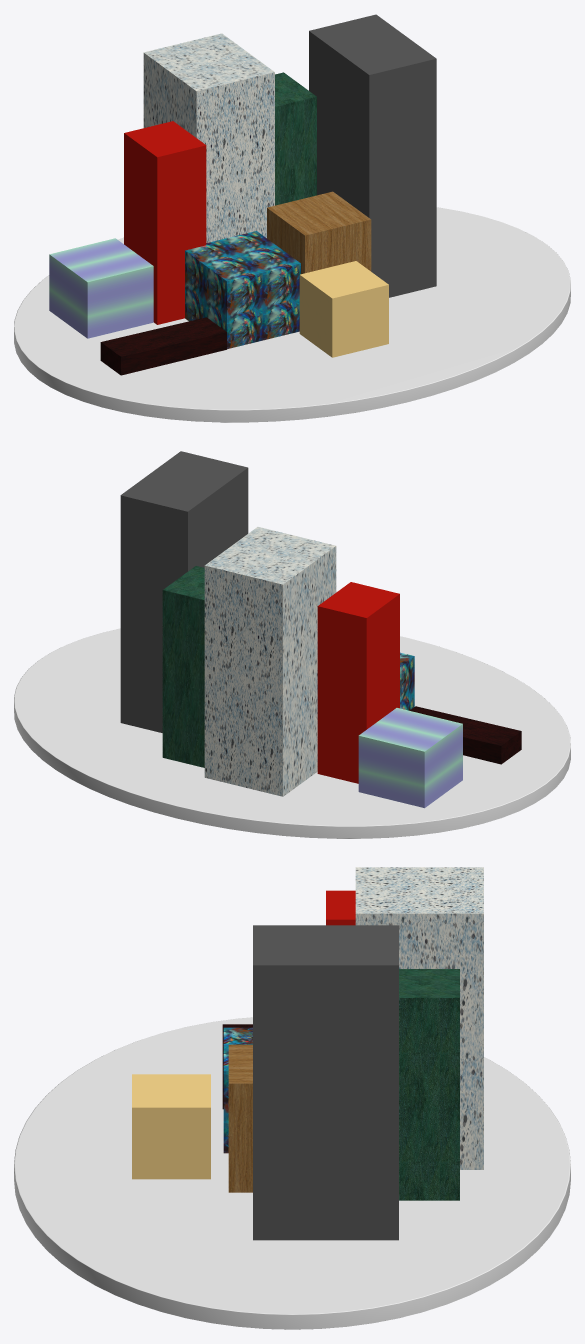
Rendered from Materials (copy).glb.
3 views of the same model, one above another, from view 1: azimuth 30°, elevation 25°; view 2: azimuth 150°, elevation 25°; view 3: azimuth 270°, elevation 25° (orthographic). The views are drawn at different scales.
Visible parts, largest first — view 1: Ellipse, Box 2, Box 3, Box 6, Box 7, Box 4, Box, Box 8, Box 1, Box 5; view 2: Ellipse, Box 3, Box 2, Box 6, Box 4, Box 1, Box 5, Box 7; view 3: Ellipse, Box 2, Box 3, Box 1, Box, Box 8, Box 7, Box 6.
Part boxes in pixels (x1=…): Ellipse: x1=14, y1=207, x2=570, y2=422; Box 2: x1=309, y1=14, x2=436, y2=297; Box 3: x1=143, y1=33, x2=274, y2=242; Box 6: x1=124, y1=121, x2=206, y2=324; Box 7: x1=185, y1=231, x2=300, y2=349; Box 4: x1=49, y1=238, x2=153, y2=338; Box: x1=299, y1=261, x2=388, y2=357; Box 8: x1=267, y1=191, x2=371, y2=274; Box 1: x1=275, y1=72, x2=316, y2=205; Box 5: x1=100, y1=317, x2=226, y2=375; Ellipse: x1=14, y1=628, x2=570, y2=838; Box 3: x1=204, y1=527, x2=336, y2=796; Box 2: x1=120, y1=451, x2=248, y2=732; Box 6: x1=317, y1=582, x2=399, y2=783; Box 4: x1=358, y1=708, x2=462, y2=808; Box 1: x1=162, y1=566, x2=204, y2=767; Box 5: x1=410, y1=706, x2=521, y2=764; Box 7: x1=400, y1=652, x2=414, y2=710; Ellipse: x1=14, y1=1017, x2=570, y2=1329; Box 2: x1=253, y1=925, x2=398, y2=1240; Box 3: x1=355, y1=867, x2=483, y2=1169; Box 1: x1=399, y1=969, x2=459, y2=1200; Box: x1=132, y1=1074, x2=210, y2=1179; Box 8: x1=228, y1=1044, x2=252, y2=1192; Box 7: x1=223, y1=1027, x2=252, y2=1153; Box 6: x1=326, y1=890, x2=355, y2=925.
Size of the model in its own units: 0.3207 by 0.1459 by 0.2522.
10 materials, 7 textured.
